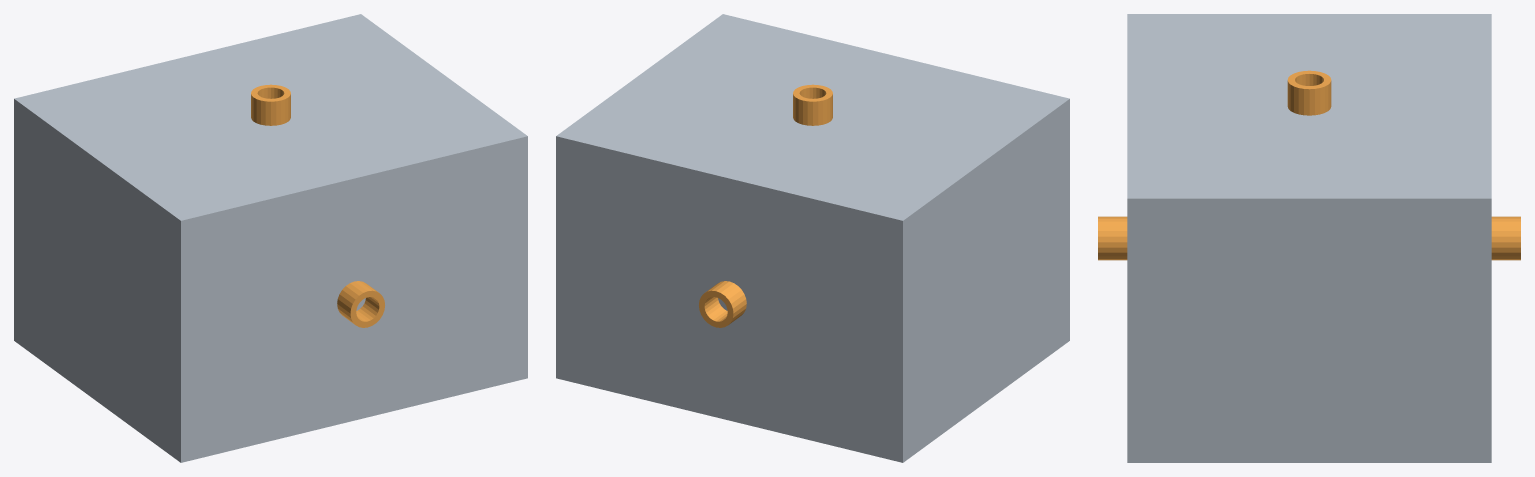
Rendered from block.glb.
The picture shows the model from 3 angles, left to right: view 1: azimuth 30°, elevation 25°; view 2: azimuth 150°, elevation 25°; view 3: azimuth 270°, elevation 25°; orthographic projection. The views are drawn at different scales.
Visible parts, largest first — view 1: MESH_block, MESH_exit-axial-positive, MESH_exit-tangent-positive; view 2: MESH_block, MESH_exit-axial-negative, MESH_exit-tangent-positive; view 3: MESH_block, MESH_exit-tangent-positive, MESH_exit-axial-positive, MESH_exit-axial-negative.
Part boxes in pixels (<box>): MESH_block: <box>14,14,527,462</box>; MESH_exit-axial-positive: <box>337,281,384,327</box>; MESH_exit-tangent-positive: <box>251,84,290,125</box>; MESH_block: <box>556,14,1069,462</box>; MESH_exit-axial-negative: <box>699,281,746,327</box>; MESH_exit-tangent-positive: <box>793,84,832,125</box>; MESH_block: <box>1127,14,1491,462</box>; MESH_exit-tangent-positive: <box>1287,70,1331,115</box>; MESH_exit-axial-positive: <box>1098,216,1127,260</box>; MESH_exit-axial-negative: <box>1491,216,1520,260</box>.
Bounding box in the file's own units: 0.3 × 0.24 × 0.29.
